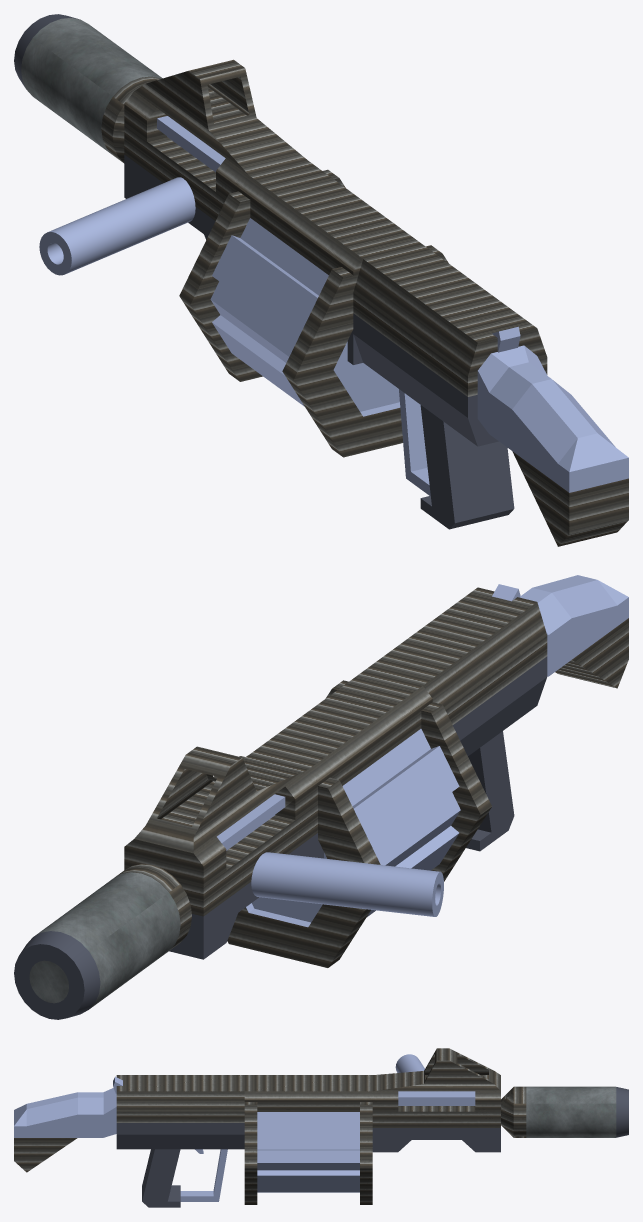
The model's file is lmg.glb.
3 renders of one model, top to bottom at view 1: azimuth 30°, elevation 25°; view 2: azimuth 150°, elevation 25°; view 3: azimuth 270°, elevation 25°, orthographic. The views are drawn at different scales.
Parts seen in each view (by area): view 1: lmg; view 2: lmg; view 3: lmg.
Part boxes in pixels (x1,y1,x2,y2): lmg: (14, 14, 628, 546); lmg: (14, 575, 628, 1019); lmg: (14, 1048, 628, 1207).
Bounding box in the file's own units: 0.3724 × 0.3125 × 1.2.
Materials: 4 (2 with a texture image).
